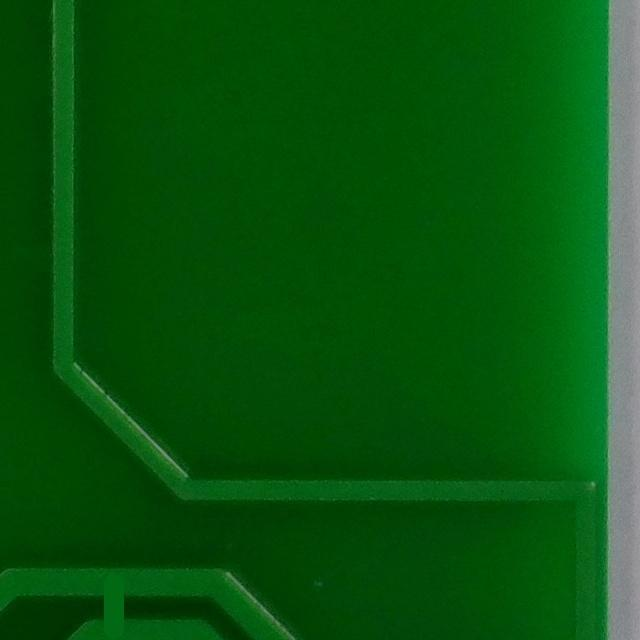short: (74, 552, 148, 640)
